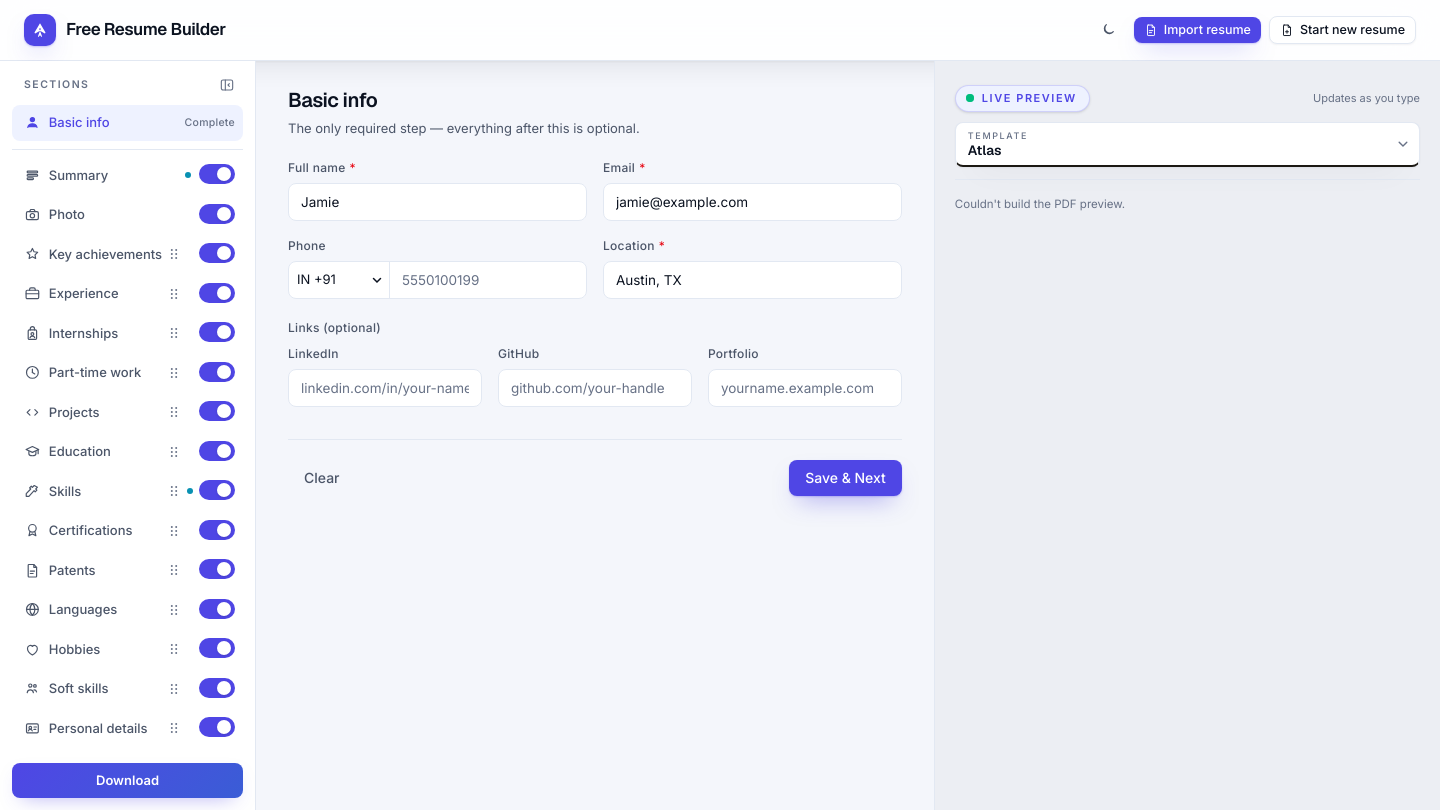
Test: BuilderShell › clears only the current section after confirmation, leaving other sections alone
The width and height of the screenshot is (1440, 810).
Expected: the heading "Basic info" is shown, [288,87,377,113]
Click the button "Skills": (86, 491) [12,474,159,509]
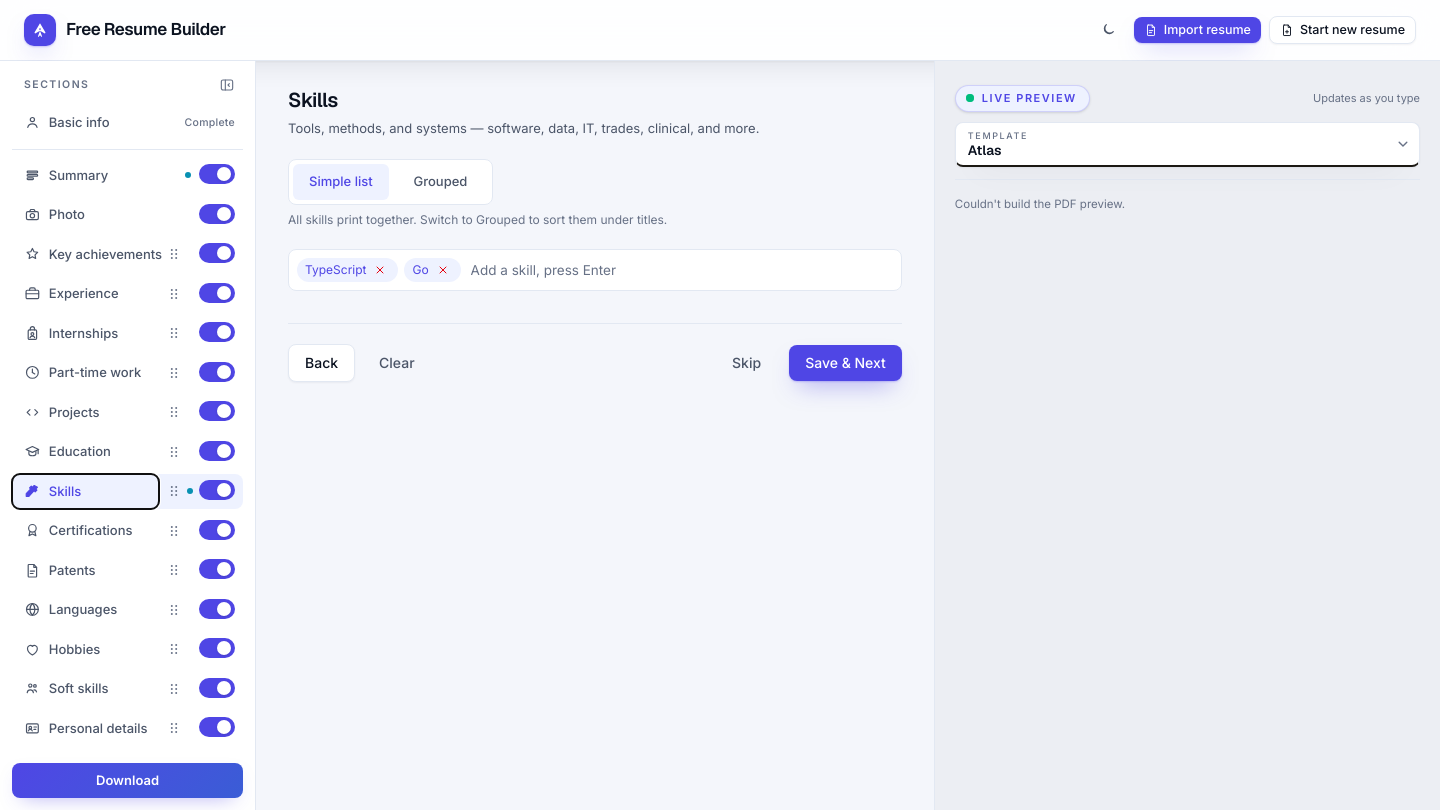
Click the button "Clear": (397, 363) [363,345,431,381]
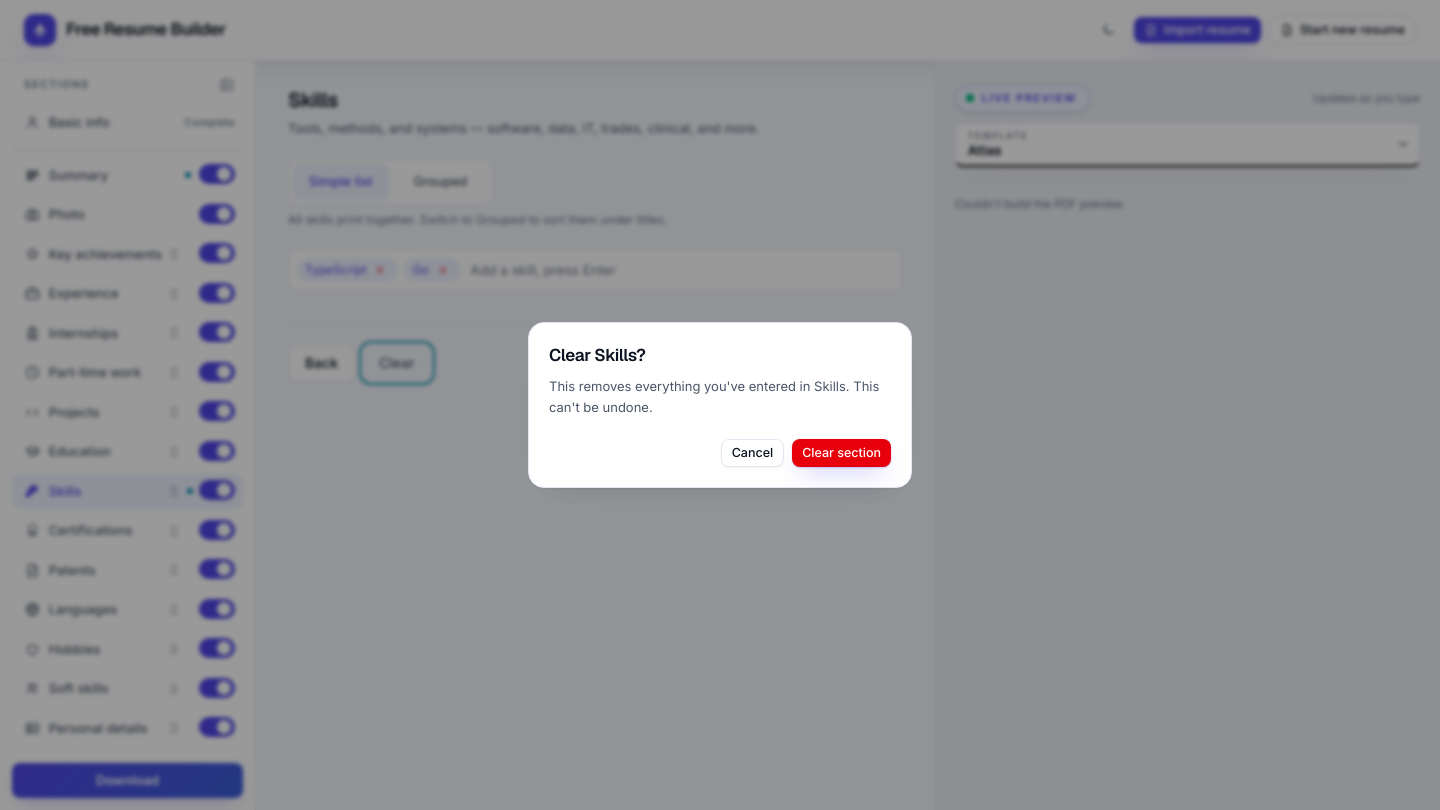
Now the dialog "Clear Skills?" is shown
Click the button "Clear section": (842, 453) [792,438,891,467]
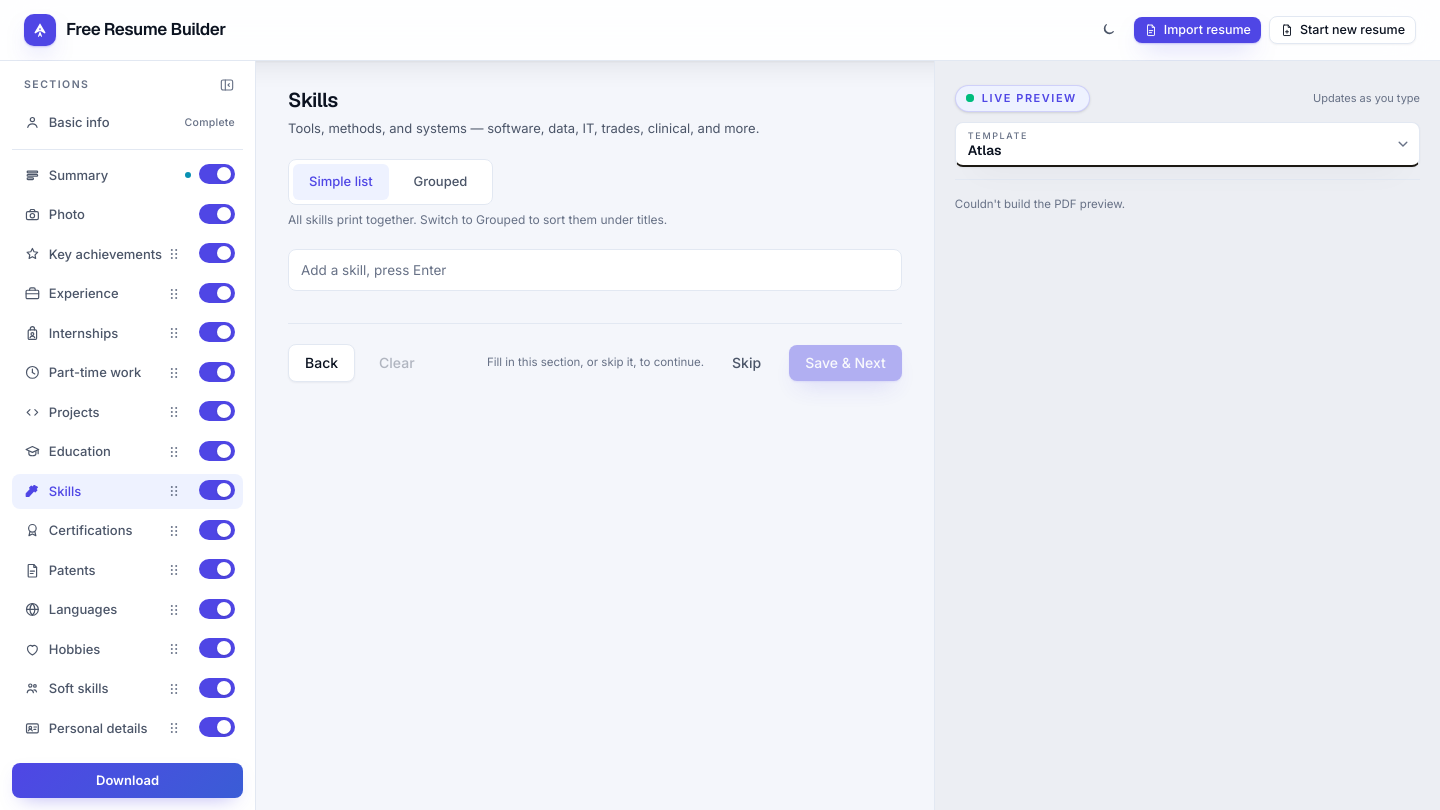
Now the dialog is gone
Now the button "Clear" is disabled, box [363,345,431,381]
